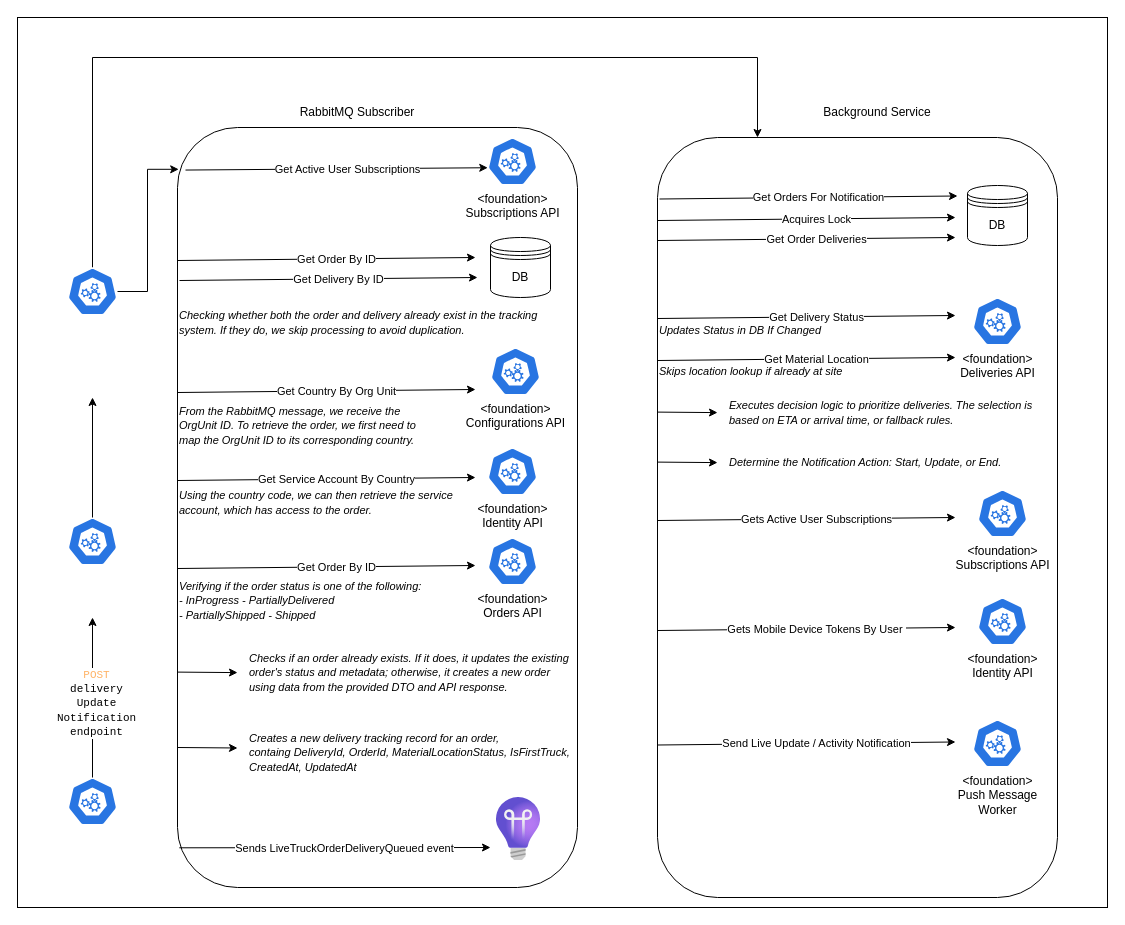
This 1125x925 diagram has some shape labels left out. The box of each missing label's shape, as (x1, y1, x2, y2) in pixels:
<data-platform> Delivery Notification Worker: (66, 776, 118, 826)
<foundation> Live Truck Notification Worker: (66, 266, 118, 316)
<foundation> Message Queues: (66, 516, 118, 566)
